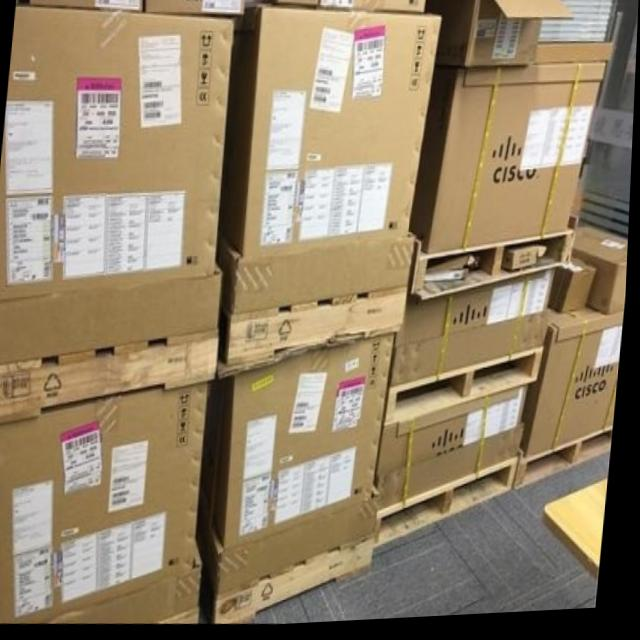box: (0, 5, 237, 364), (219, 6, 442, 316), (0, 384, 215, 626), (202, 338, 398, 599), (412, 69, 607, 258), (377, 391, 534, 516), (395, 275, 558, 389), (525, 314, 626, 463), (425, 0, 576, 72), (575, 231, 631, 322), (552, 261, 602, 319), (143, 0, 245, 18), (318, 0, 426, 17), (29, 0, 143, 14), (265, 0, 320, 10), (245, 0, 266, 11)
